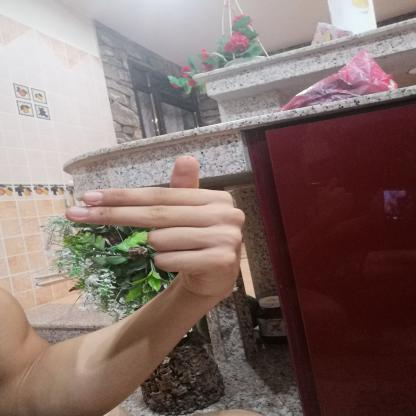GHAYN: (53, 143, 257, 309)
